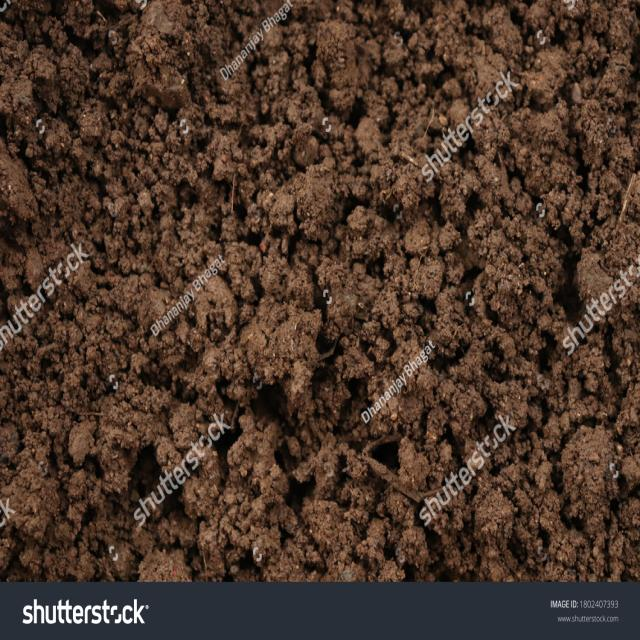Alluvial Soil: (31, 78, 588, 527)
